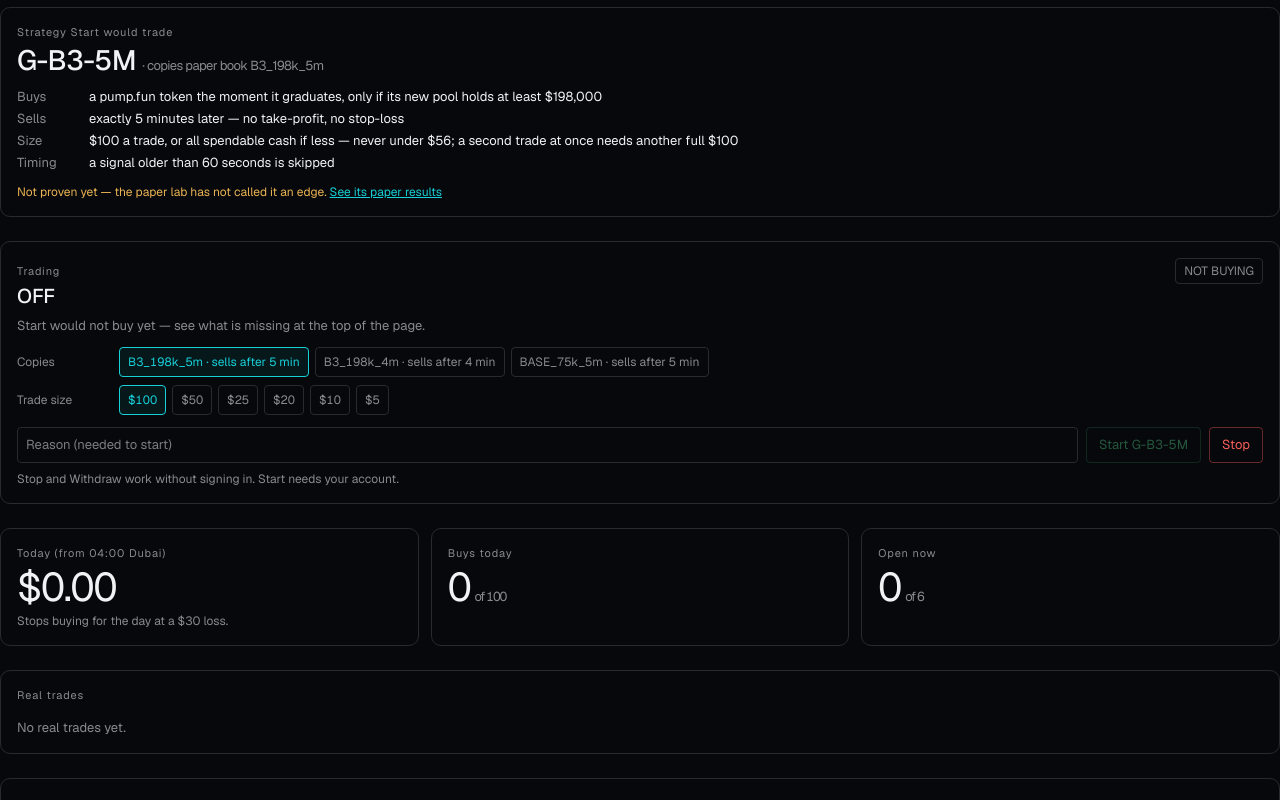
Test: RealWalletPage signed in as the administrator › gives the bigger sizes back when the arm that allows them is picked again
This screenshot has width=1280, height=800.
(page scrolled)
Click the button "$25" at (238, 400), box [218,385,258,415]
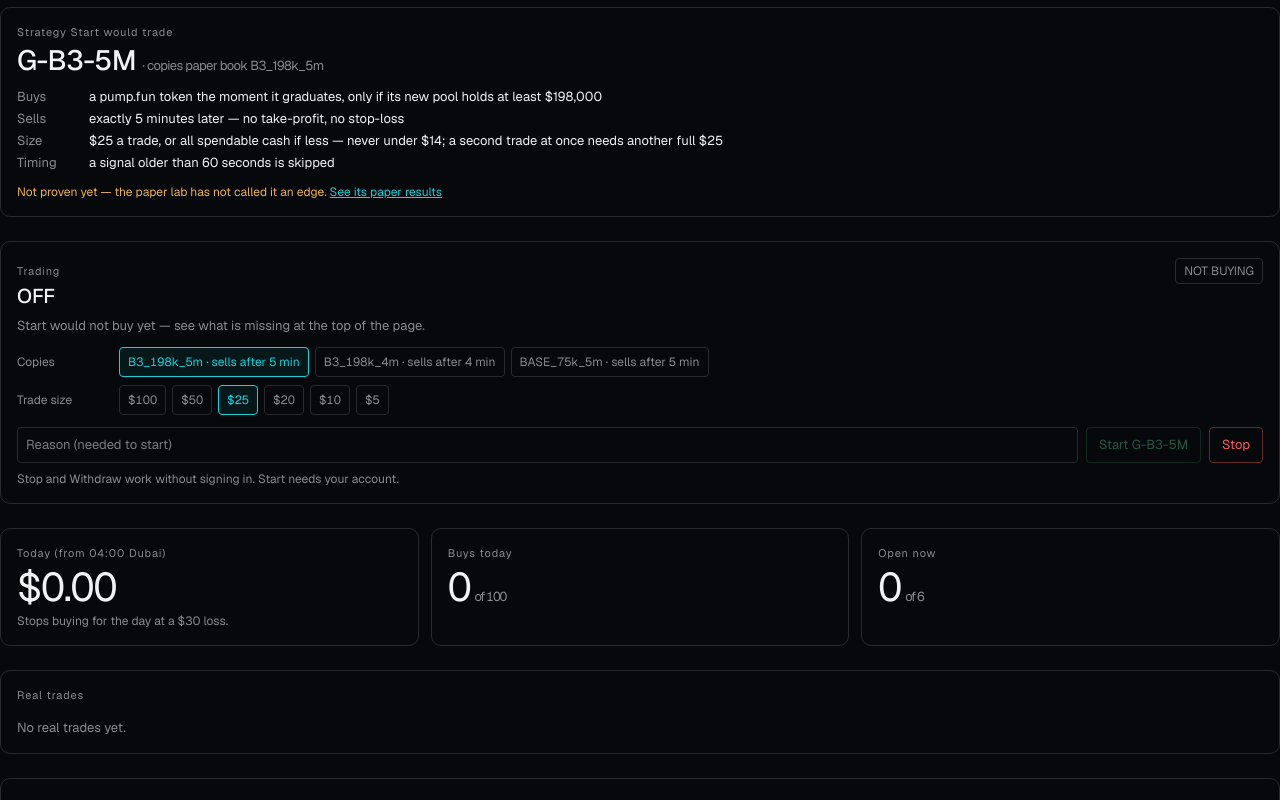
Click the button "BASE_75k_5m · sells after 5 min" at (610, 362), box [511,347,708,377]
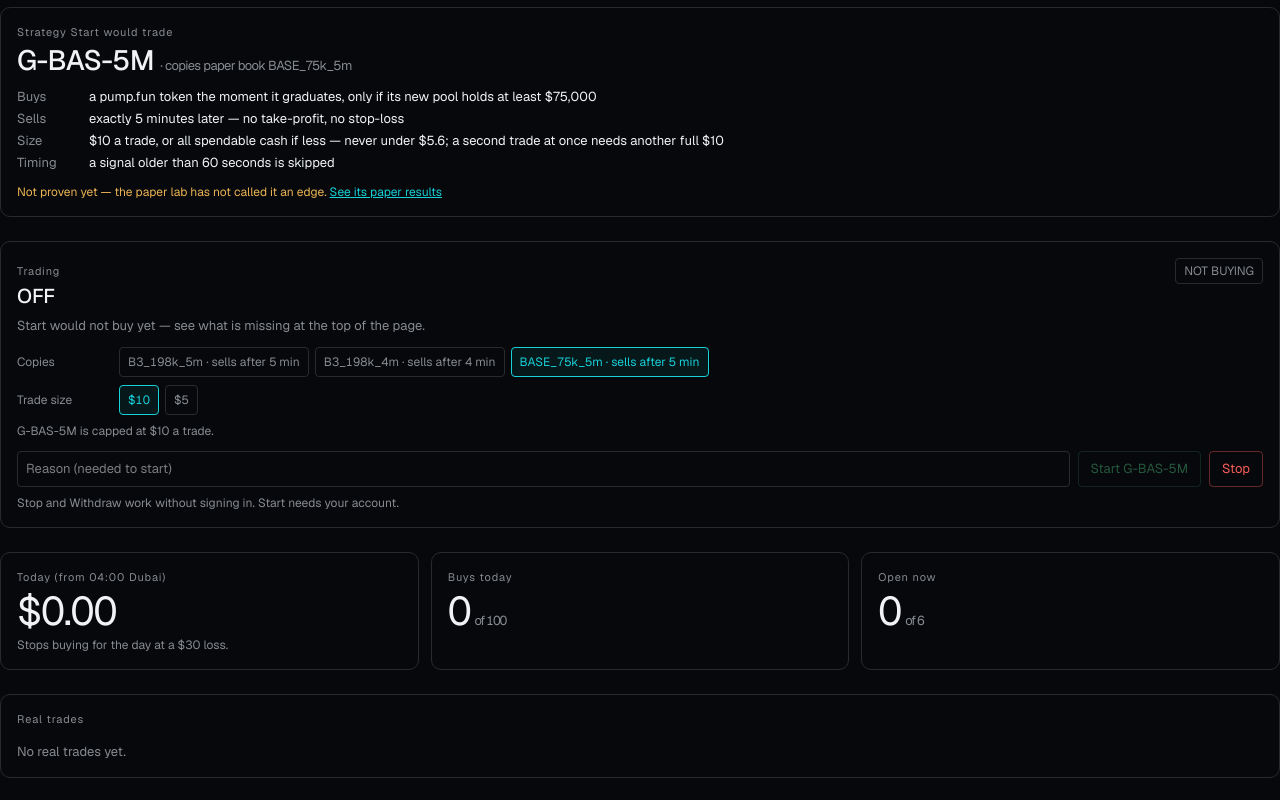
Click the button "B3_198k_4m · sells after 4 min" at (410, 362), box [315,347,505,377]
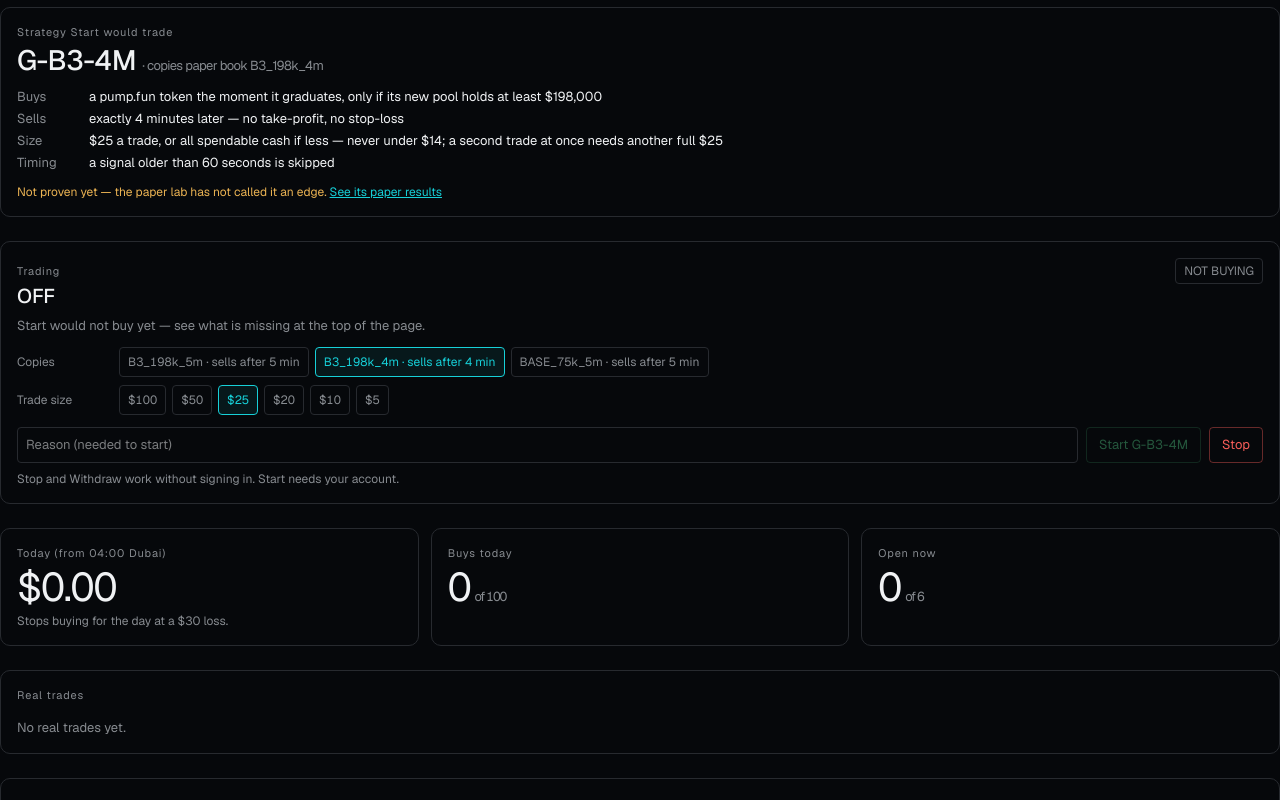
Check: the text "Trading" no longer shows "capped at"
